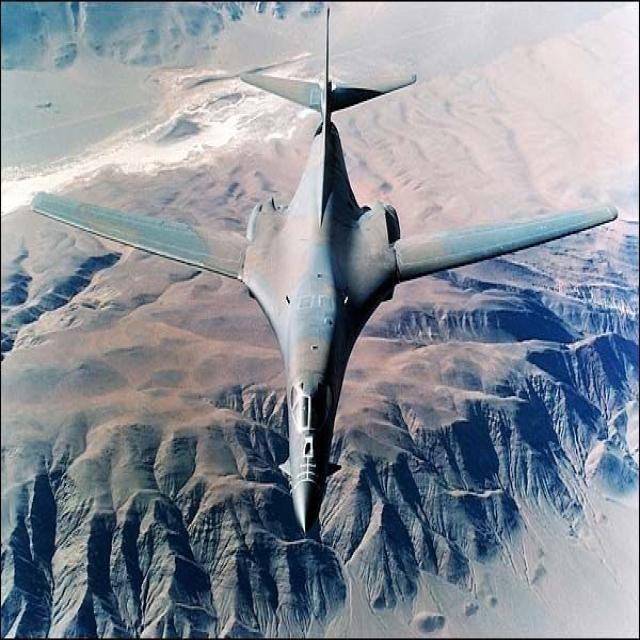MIL_Plane: (32, 2, 615, 525)
